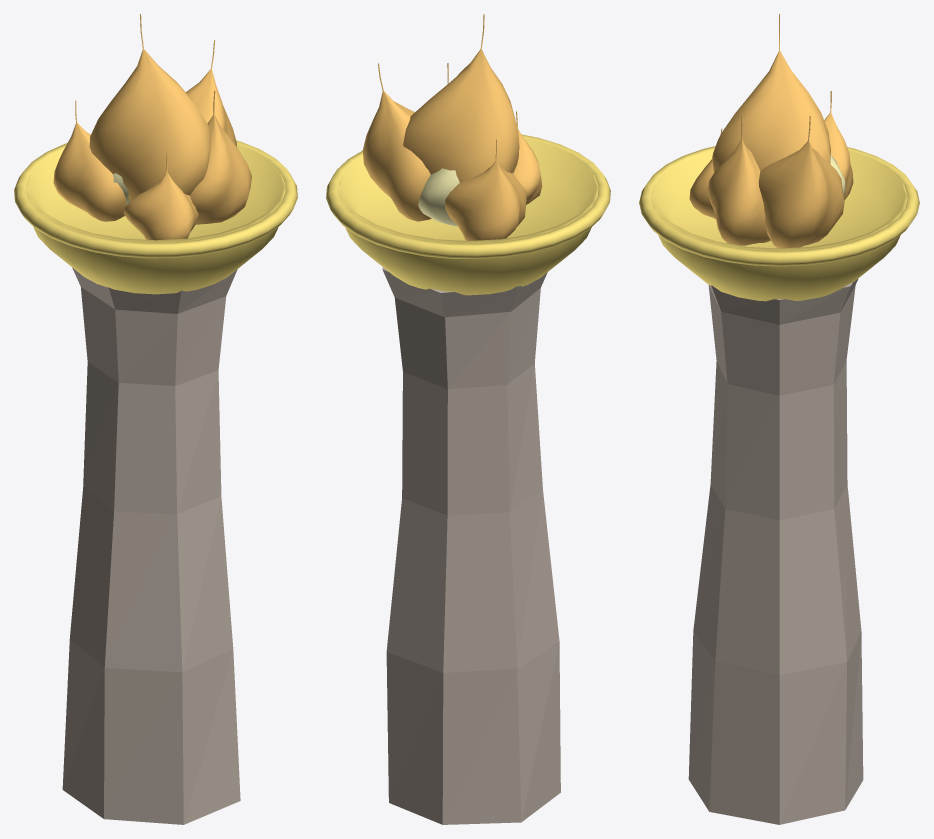
Rendered from LavaTorch.glb.
The picture shows the model from 3 angles, left to right: view 1: azimuth 30°, elevation 25°; view 2: azimuth 150°, elevation 25°; view 3: azimuth 270°, elevation 25°; orthographic projection.
Parts seen in each view (by area): view 1: Rock, Flame, Gold; view 2: Rock, Gold, Flame, Core; view 3: Rock, Gold, Flame.
Boxes of the visible parts, x1,y1,x2,y2 form: Rock: [62, 267, 240, 824]; Flame: [53, 14, 251, 240]; Gold: [14, 140, 297, 294]; Rock: [382, 267, 560, 824]; Gold: [326, 134, 610, 295]; Flame: [362, 14, 542, 240]; Core: [418, 168, 513, 226]; Rock: [688, 278, 863, 824]; Gold: [639, 146, 919, 301]; Flame: [689, 14, 853, 248].
Bounding box in the file's own units: 10.26 × 30.9 × 10.26.
